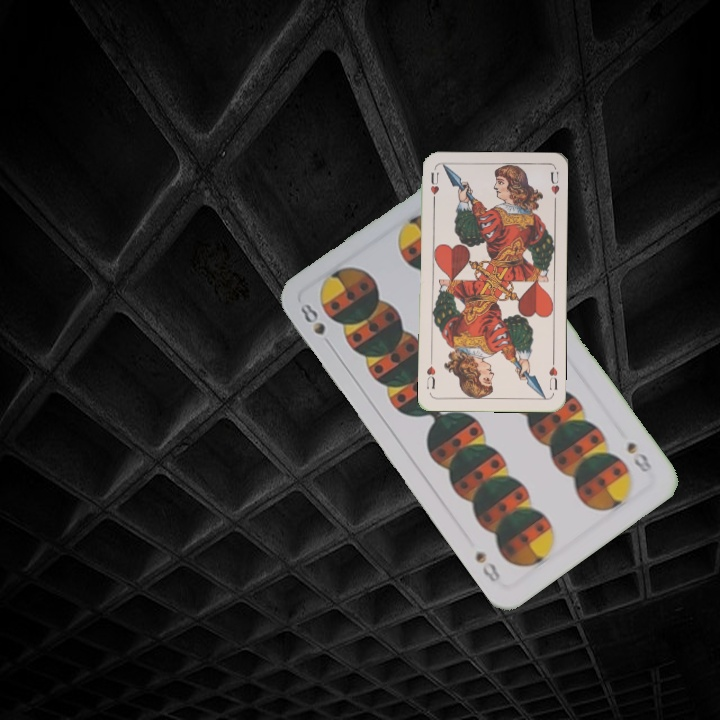HU: (545, 356, 560, 392), (427, 168, 441, 206)
S8: (622, 437, 655, 475), (296, 299, 328, 338)
